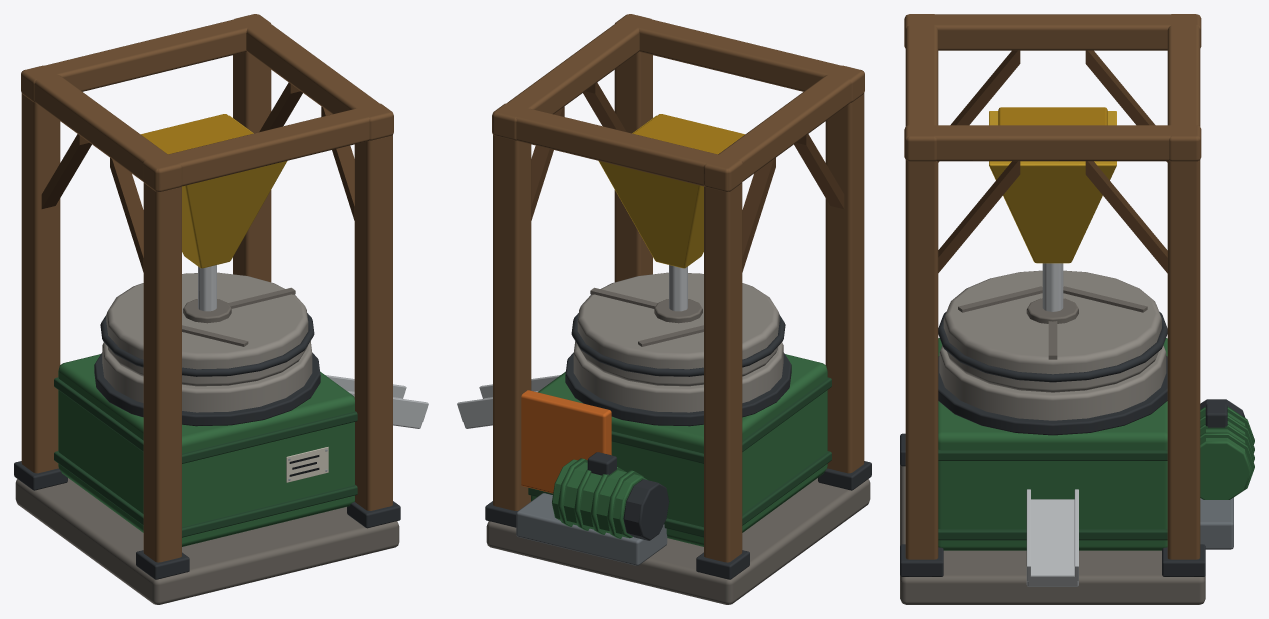
Rendered from lc_mill.glb.
3 views of the same model, side by side, from view 1: azimuth 30°, elevation 25°; view 2: azimuth 150°, elevation 25°; view 3: azimuth 270°, elevation 25° (orthographic). The views are drawn at different scales.
Parts seen in each view (by area): view 1: block.014, block.001, block.006, block.008, block.002, cyl.007, block.011, block.010, cyl.008, block.012, block.013, cyl.005 (+17 smaller); view 2: block.014, block.002, block.006, block.001, block.004, cyl.007, block.010, block.011, cyl.008, block.030, block.012, block.013 (+21 smaller); view 3: block.014, cyl.007, block.004, block.008, block.001, block.013, block.012, cyl.008, cyl.005, block.011, block.010, cyl.006 (+17 smaller).
Boxes of the visible parts, x1,y1,x2,y2 form: block.014: (58, 354, 354, 546); block.001: (15, 478, 399, 604); block.006: (143, 183, 181, 562); block.008: (354, 135, 392, 510); block.002: (21, 93, 60, 473); cyl.007: (106, 272, 308, 386); block.011: (143, 103, 393, 191); block.010: (21, 14, 270, 102); cyl.008: (182, 115, 287, 268); block.012: (22, 65, 182, 191); block.013: (234, 14, 393, 140); cyl.005: (102, 341, 312, 412); block.014: (531, 354, 827, 546); block.002: (704, 183, 742, 562); block.006: (825, 93, 864, 473); block.001: (486, 478, 870, 604); block.004: (493, 135, 531, 510); cyl.007: (577, 272, 779, 386); block.010: (492, 103, 742, 191); block.011: (615, 14, 864, 102); cyl.008: (598, 115, 703, 268); block.030: (521, 390, 611, 493); block.012: (703, 65, 863, 191); block.013: (492, 14, 651, 140); block.014: (938, 338, 1167, 550); cyl.007: (943, 270, 1161, 392); block.004: (1167, 160, 1200, 559); block.008: (905, 160, 938, 559); block.001: (900, 464, 1205, 604); block.013: (904, 125, 1201, 161); block.012: (904, 14, 1201, 50); cyl.008: (989, 111, 1116, 263); cyl.005: (939, 345, 1166, 420); block.011: (905, 14, 938, 161); block.010: (1167, 14, 1200, 161); cyl.006: (938, 356, 1167, 435).
Size of the model in its own units: 1.89 by 2.37 by 1.63.
